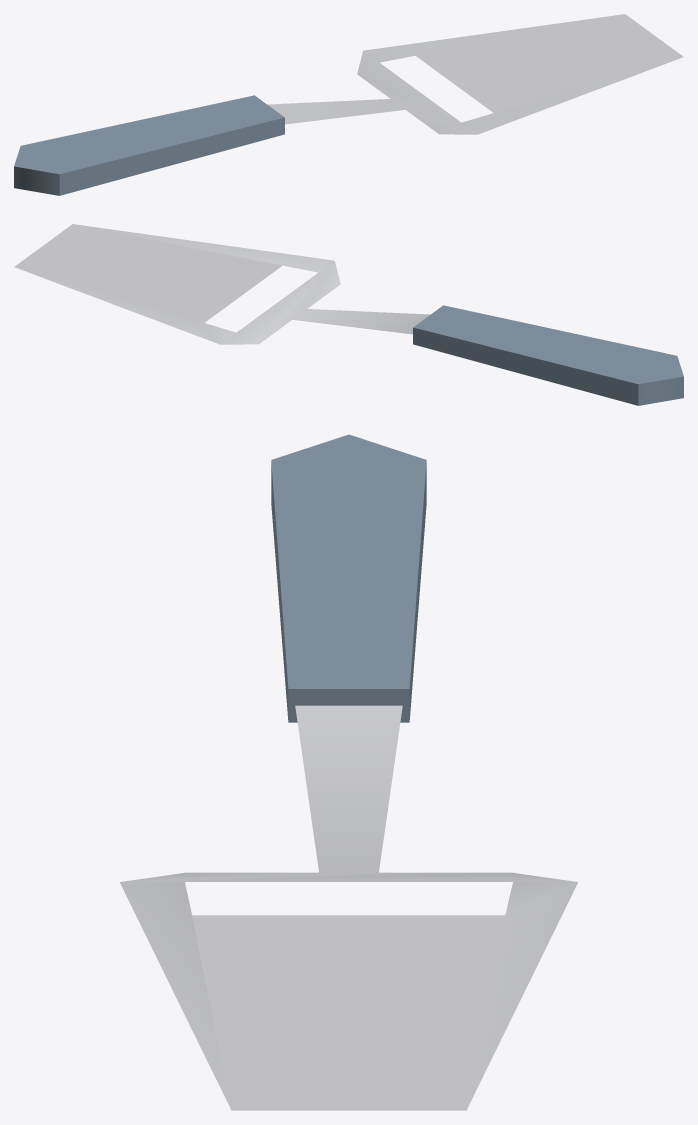
Rendered from cheeseSlicer.GLB.
3 renders of one model, top to bottom at view 1: azimuth 30°, elevation 25°; view 2: azimuth 150°, elevation 25°; view 3: azimuth 270°, elevation 25°, orthographic. The views are drawn at different scales.
Visible parts, largest first — view 1: cheeseSlicer; view 2: cheeseSlicer; view 3: cheeseSlicer.
Boxes of the visible parts, x1,y1,x2,y2 form: cheeseSlicer: (14,14,683,195); cheeseSlicer: (14,224,683,405); cheeseSlicer: (119,434,578,1110).
Bounding box in the file's own units: 0.6184 × 0.0292 × 0.1918.
